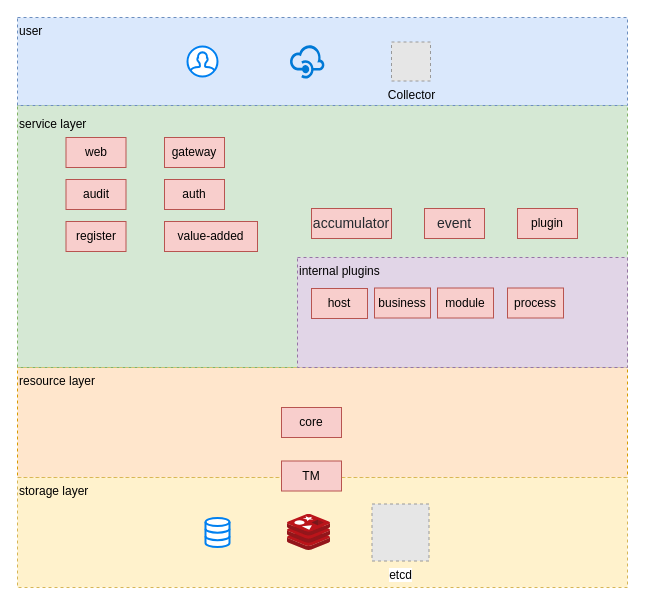
This 645x605 diagram has some shape labels left out. Grey dashed boxes stand in for pictures. The shapes that lost their labels are listed below. From the top down, each one's centre as x and y in pixels, then its label:
(202,61): UI
(306,61): API
(217,532): MongoDB
(308,532): Redis
